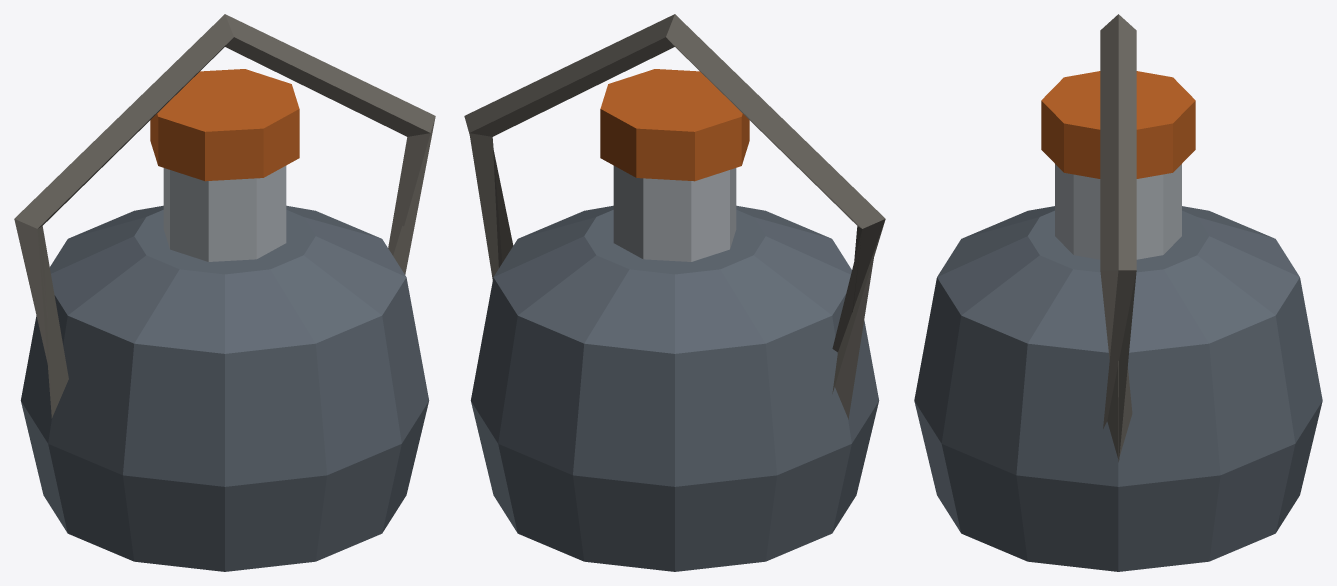
File: canteen.glb
3 renders of one model, left to right at view 1: azimuth 30°, elevation 25°; view 2: azimuth 150°, elevation 25°; view 3: azimuth 270°, elevation 25°, orthographic.
Parts seen in each view (by area): view 1: m; view 2: m; view 3: m.
Boxes of the visible parts, left/top/right/bottom form: m: left=14, top=14, right=435, bottom=571; m: left=464, top=14, right=885, bottom=571; m: left=914, top=14, right=1322, bottom=571.
Size of the model in its own units: 0.0811 by 0.09 by 0.0681.
